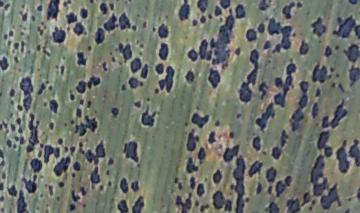tarspot: (213, 9, 235, 71), (272, 63, 296, 109), (241, 50, 258, 103), (231, 154, 246, 213), (267, 17, 292, 52), (321, 99, 348, 130), (254, 103, 276, 131), (332, 15, 357, 38), (27, 113, 40, 153), (322, 183, 340, 209), (84, 143, 106, 164), (74, 116, 97, 136), (212, 190, 232, 213), (336, 140, 349, 173), (20, 77, 32, 112), (160, 65, 174, 93), (122, 140, 138, 163), (311, 155, 324, 183), (342, 43, 360, 63), (309, 17, 327, 36), (54, 157, 71, 177), (312, 64, 329, 84), (117, 41, 132, 63), (186, 128, 199, 153), (291, 108, 305, 131), (141, 105, 156, 126), (176, 193, 191, 213), (316, 129, 331, 149), (190, 113, 210, 127), (46, 1, 61, 19), (224, 145, 239, 163), (313, 178, 328, 196), (103, 14, 118, 31), (52, 25, 66, 43), (351, 139, 360, 166), (208, 68, 220, 88), (200, 41, 212, 61), (282, 1, 295, 19), (178, 1, 189, 22), (349, 66, 360, 87), (17, 190, 27, 213), (93, 26, 105, 45), (22, 179, 37, 194), (258, 82, 269, 102), (286, 198, 300, 213), (250, 159, 262, 176), (87, 75, 100, 90), (30, 156, 42, 172), (133, 196, 144, 213), (186, 157, 197, 174), (251, 135, 262, 152), (65, 11, 78, 25), (120, 13, 130, 31), (158, 42, 168, 60), (275, 181, 286, 197), (130, 57, 140, 74), (236, 3, 246, 20), (92, 163, 100, 184), (212, 170, 223, 185), (77, 51, 87, 67), (43, 145, 53, 161), (119, 178, 129, 194), (267, 167, 277, 183), (73, 22, 86, 34), (116, 200, 128, 213), (245, 28, 257, 41), (6, 184, 17, 198), (158, 23, 168, 38), (208, 129, 217, 145), (271, 147, 283, 159), (75, 80, 86, 93), (49, 100, 60, 113), (128, 76, 139, 89), (187, 49, 198, 62), (297, 96, 310, 107), (299, 40, 309, 54), (301, 192, 311, 206), (299, 79, 309, 93), (281, 131, 289, 148), (311, 102, 319, 119), (197, 148, 206, 163), (268, 202, 280, 213), (213, 5, 223, 18), (1, 56, 9, 72), (99, 2, 108, 16), (196, 183, 205, 197), (78, 7, 89, 18), (197, 1, 208, 12), (42, 45, 52, 57), (185, 70, 195, 82), (18, 10, 28, 21), (259, 1, 270, 11), (37, 83, 46, 95), (131, 181, 140, 193), (262, 39, 271, 51), (324, 145, 333, 157), (46, 184, 54, 197), (255, 182, 263, 195), (284, 173, 292, 186), (72, 191, 82, 201), (110, 107, 119, 118), (155, 63, 164, 74), (73, 161, 82, 172), (189, 176, 196, 190), (324, 45, 332, 57), (19, 40, 26, 53), (54, 146, 61, 159), (142, 63, 148, 78), (258, 22, 266, 33), (314, 86, 321, 98), (200, 204, 209, 213), (12, 55, 20, 65), (79, 139, 84, 155), (233, 47, 241, 57), (294, 2, 304, 10), (59, 64, 65, 77), (81, 183, 86, 198), (355, 24, 360, 39), (36, 27, 44, 36), (102, 61, 108, 73), (75, 108, 83, 117), (221, 1, 230, 9), (338, 84, 346, 93), (19, 135, 26, 145), (12, 42, 20, 50), (130, 24, 138, 32), (227, 131, 235, 139), (356, 187, 360, 203), (8, 29, 15, 38), (9, 88, 16, 97), (63, 1, 72, 8), (120, 83, 127, 92), (48, 121, 55, 130), (5, 139, 12, 148), (17, 104, 23, 114), (109, 1, 115, 11), (2, 119, 8, 129), (98, 183, 104, 193), (36, 4, 43, 12), (109, 56, 117, 63), (199, 16, 207, 23), (107, 157, 114, 165), (69, 146, 76, 154), (16, 126, 23, 134), (69, 203, 76, 211), (6, 38, 12, 47), (86, 100, 92, 109), (142, 20, 148, 29), (192, 18, 198, 27), (57, 137, 63, 146), (329, 65, 335, 74), (2, 33, 9, 40), (9, 99, 16, 106), (65, 25, 72, 32), (47, 84, 54, 91), (134, 101, 141, 108), (214, 120, 221, 127), (5, 3, 11, 11), (30, 14, 36, 22), (69, 93, 75, 101), (10, 124, 16, 132), (90, 183, 96, 191), (177, 182, 183, 190), (267, 186, 273, 194), (17, 31, 26, 36), (107, 178, 112, 187), (245, 195, 250, 204), (151, 26, 157, 33), (153, 88, 159, 95), (13, 135, 19, 142), (38, 142, 44, 149), (58, 181, 64, 188), (183, 121, 190, 127), (311, 199, 317, 206), (334, 44, 340, 51), (36, 44, 41, 52), (139, 80, 144, 88), (1, 160, 6, 168), (348, 1, 358, 5), (39, 20, 45, 26), (42, 102, 48, 108), (15, 118, 21, 124), (1, 172, 7, 178), (331, 82, 337, 88), (208, 12, 213, 19), (32, 174, 37, 181), (71, 171, 76, 178), (1, 182, 5, 190), (174, 176, 178, 184), (20, 3, 25, 9), (87, 45, 92, 51), (70, 119, 75, 125), (63, 147, 69, 152), (12, 143, 17, 149), (1, 148, 4, 158), (82, 203, 87, 209), (56, 195, 61, 201), (38, 192, 44, 197), (105, 169, 110, 175), (345, 208, 351, 213), (1, 1, 5, 8), (89, 1, 96, 5), (195, 200, 199, 207), (79, 100, 84, 105), (139, 44, 144, 49), (292, 33, 297, 38), (309, 206, 314, 211), (27, 49, 31, 55), (1, 123, 4, 131), (1, 196, 5, 202), (237, 113, 241, 119), (1, 208, 5, 213), (64, 123, 68, 128), (336, 74, 340, 79), (147, 98, 151, 102), (109, 52, 113, 55), (1, 91, 3, 96)
